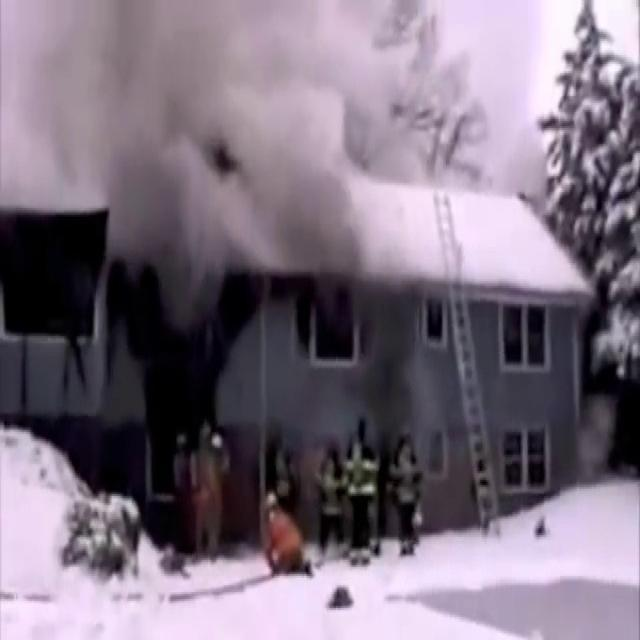Smoke: (198, 0, 514, 245), (34, 0, 272, 325)
